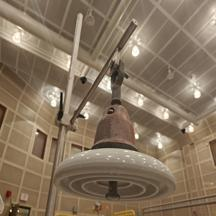insulator: (49, 99, 180, 206)
